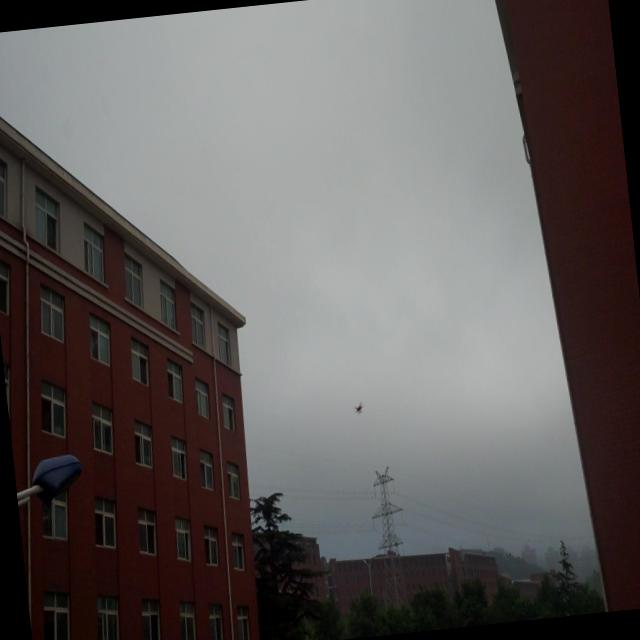drone: (351, 400, 365, 414)
